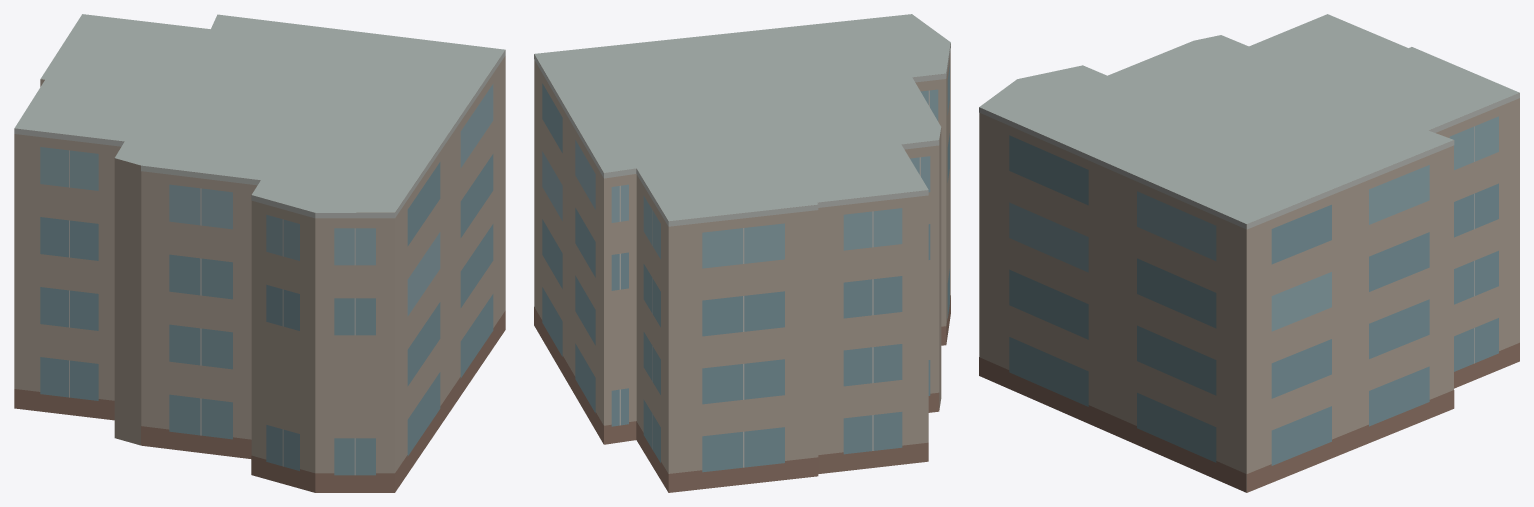
The model's file is survey-upis-32914476.glb.
The picture shows the model from 3 angles, left to right: view 1: azimuth 30°, elevation 25°; view 2: azimuth 150°, elevation 25°; view 3: azimuth 270°, elevation 25°; orthographic projection. The views are drawn at different scales.
Visible parts, largest first — view 1: survey-upis-32914476.tmp; view 2: survey-upis-32914476.tmp; view 3: survey-upis-32914476.tmp.
Part boxes in pixels (x1,y1,x2,y2): survey-upis-32914476.tmp: (14,14,505,492); survey-upis-32914476.tmp: (534,14,950,492); survey-upis-32914476.tmp: (979,14,1519,492).
Bounding box in the file's own units: 20.48 × 12.2 × 22.26.
